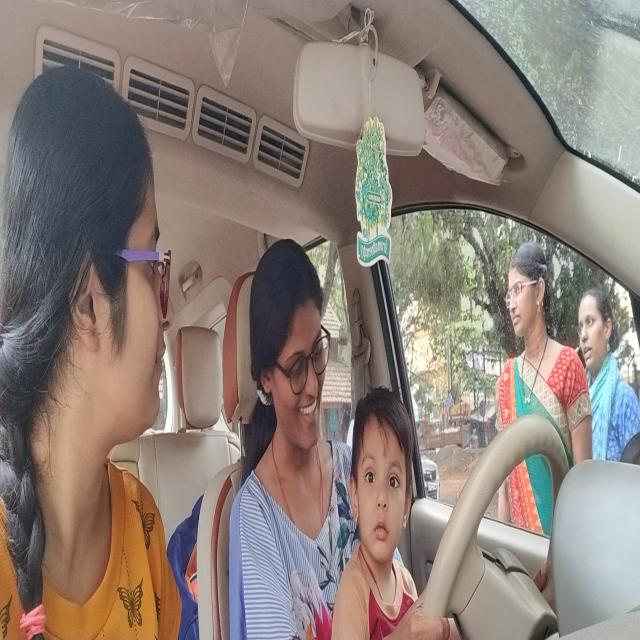child: (350, 386, 414, 570)
person: (0, 53, 180, 527), (246, 238, 336, 456)
